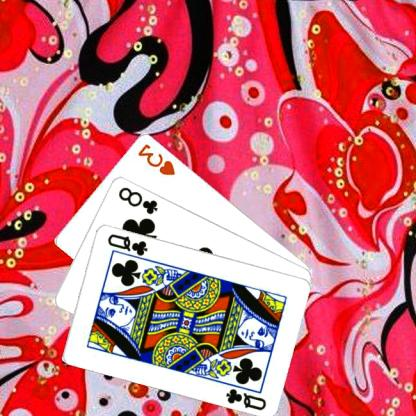3H: (136, 140, 178, 177)
8C: (117, 184, 161, 216)
QC: (224, 386, 270, 412), (106, 230, 151, 256)
